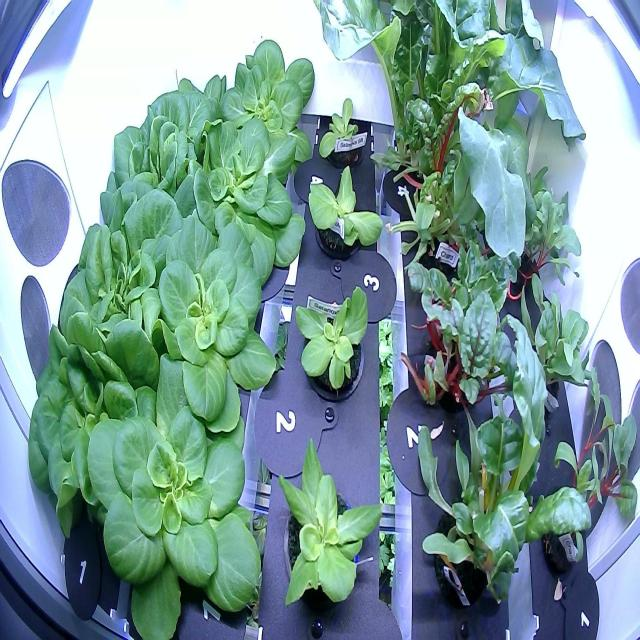Ready: (22, 311, 167, 551), (54, 164, 184, 382), (98, 89, 214, 243), (144, 62, 228, 191)
young: (82, 344, 270, 640), (136, 212, 281, 442), (268, 429, 392, 620), (172, 114, 308, 285), (204, 32, 321, 178), (289, 277, 377, 410), (304, 155, 388, 273), (310, 90, 374, 173)
